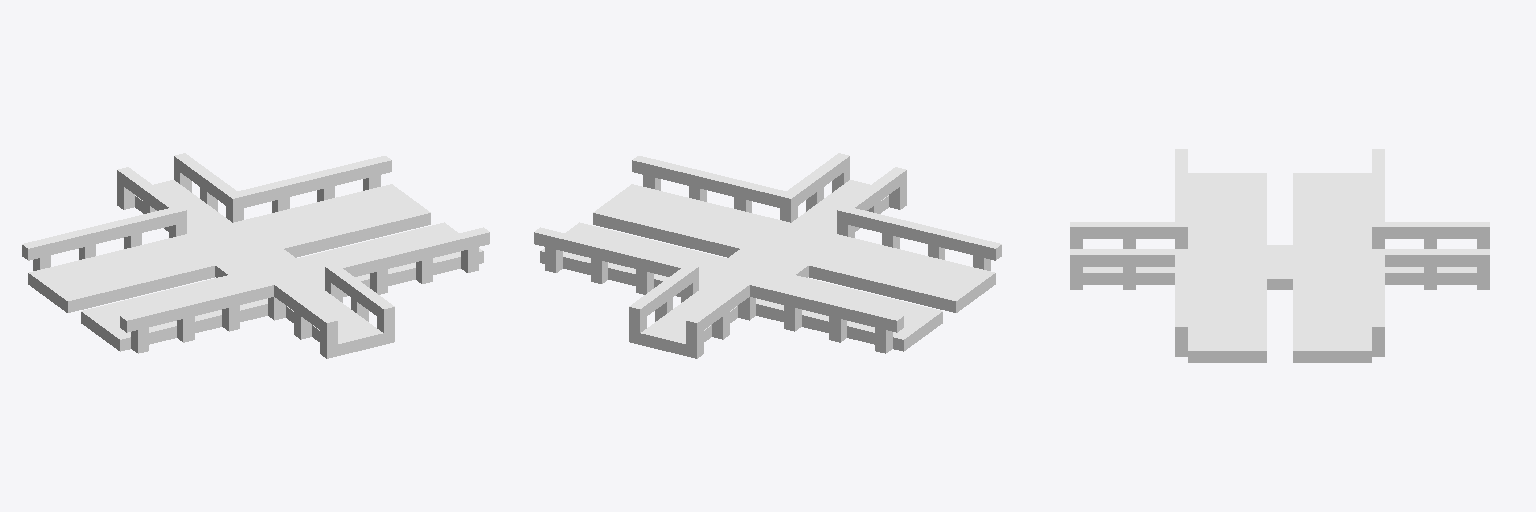
Rendered from roadPedestrian2.obj.
3 renders of one model, left to right at view 1: azimuth 30°, elevation 25°; view 2: azimuth 150°, elevation 25°; view 3: azimuth 270°, elevation 25°, orthographic.
Parts seen in each view (by area): view 1: roadPedestrian2; view 2: roadPedestrian2; view 3: roadPedestrian2.
Part boxes in pixels (bbox=[...]): roadPedestrian2: bbox=[22, 153, 489, 358]; roadPedestrian2: bbox=[534, 153, 1001, 358]; roadPedestrian2: bbox=[1070, 149, 1489, 362].
Bounding box in the file's own units: 3.2 × 0.3 × 3.2.